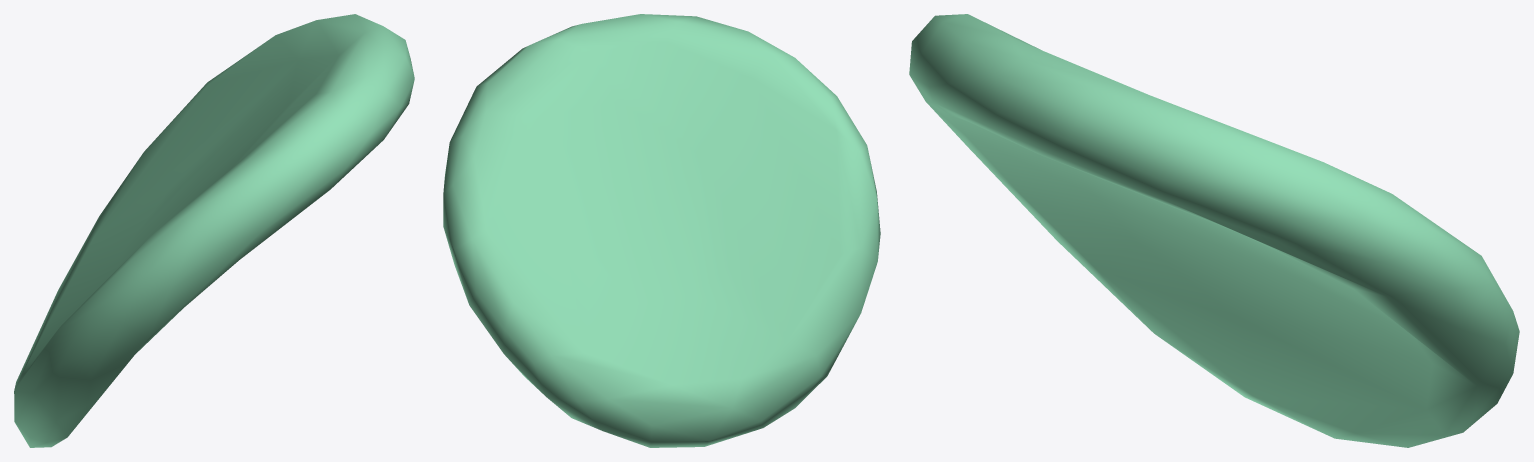
3 renders of one model, left to right at view 1: azimuth 30°, elevation 25°; view 2: azimuth 150°, elevation 25°; view 3: azimuth 270°, elevation 25°, orthographic. The views are drawn at different scales.
Parts seen in each view (by area): view 1: NGon02; view 2: NGon02; view 3: NGon02.
Boxes of the visible parts, bbox=[...] form: NGon02: bbox=[14, 14, 414, 447]; NGon02: bbox=[443, 14, 880, 447]; NGon02: bbox=[909, 14, 1519, 447].
Size of the model in its own units: 9.64 by 8.71 by 9.83.
